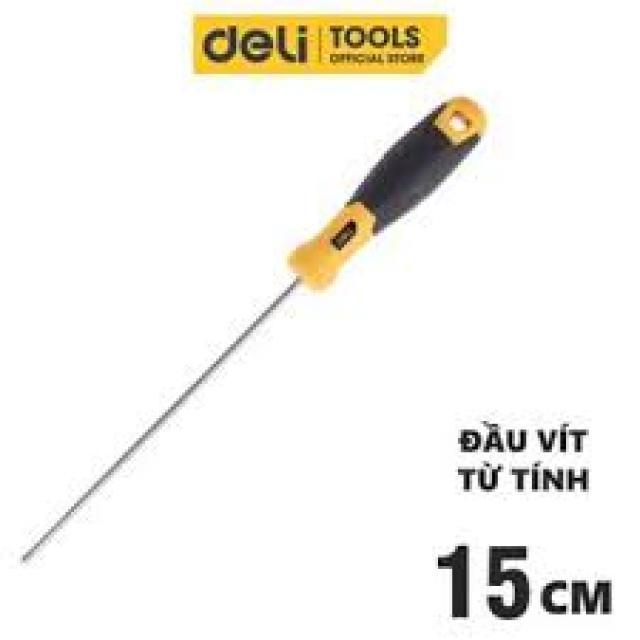screwdriver: (20, 83, 498, 568)
